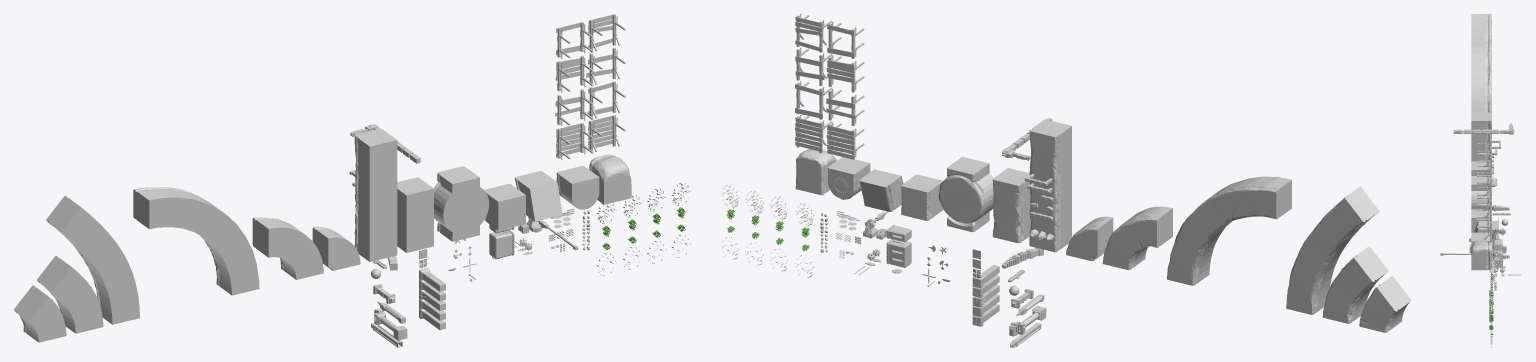
Rendered from HYPEPOLY_RunnerStandart.fbx.
The picture shows the model from 3 angles, left to right: view 1: azimuth 30°, elevation 25°; view 2: azimuth 150°, elevation 25°; view 3: azimuth 270°, elevation 25°; orthographic projection. The views are drawn at different scales.
Parts seen in each view (by area): view 1: Path_90.002, Path_Straight.002, Path_45, Path_90.001, Path_45.001, Path_Straight.001, Path_Rotation_1, Path_45.002, Path_Up, Path_End, Path_Straight, Path_Start (+11 smaller); view 2: Path_90.002, Path_45, Path_Straight.002, Path_90.001, Path_45.001, Path_Straight.001, Path_Rotation_1, Path_45.002, Path_Straight, Path_Up, Path_End, Path_90 (+11 smaller); view 3: Path_90.002, Path_Straight.002, Path_End, Path_45, HangPartMain, Path_Rotation_1, Path_Up, Path_Straight, Path_Rotation_0, Path_Straight.001, Path_Start, Bridge_Start.001 (+9 smaller).
Part boxes in pixels (x1=…): Path_90.002: x1=133, y1=187, x2=259, y2=295; Path_Straight.002: x1=354, y1=128, x2=397, y2=261; Path_45: x1=46, y1=196, x2=139, y2=324; Path_90.001: x1=252, y1=217, x2=323, y2=279; Path_45.001: x1=37, y1=256, x2=103, y2=333; Path_Straight.001: x1=397, y1=177, x2=433, y2=252; Path_Rotation_1: x1=434, y1=182, x2=489, y2=234; Path_45.002: x1=14, y1=285, x2=66, y2=342; Path_Up: x1=514, y1=171, x2=562, y2=221; Path_End: x1=589, y1=154, x2=631, y2=204; Path_Straight: x1=484, y1=184, x2=525, y2=230; Path_Start: x1=556, y1=166, x2=599, y2=209; Path_90.002: x1=1167, y1=176, x2=1291, y2=285; Path_45: x1=1286, y1=186, x2=1379, y2=314; Path_Straight.002: x1=1029, y1=119, x2=1071, y2=252; Path_90.001: x1=1102, y1=206, x2=1172, y2=270; Path_45.001: x1=1322, y1=246, x2=1388, y2=323; Path_Straight.001: x1=992, y1=168, x2=1030, y2=243; Path_Rotation_1: x1=938, y1=173, x2=993, y2=223; Path_45.002: x1=1359, y1=275, x2=1411, y2=332; Path_Straight: x1=901, y1=174, x2=943, y2=220; Path_Up: x1=859, y1=169, x2=903, y2=211; Path_End: x1=795, y1=149, x2=836, y2=195; Path_90: x1=1066, y1=216, x2=1113, y2=261; Path_90.002: x1=1471, y1=42, x2=1491, y2=112; Path_Straight.002: x1=1471, y1=112, x2=1491, y2=161; Path_End: x1=1471, y1=241, x2=1491, y2=270; Path_45: x1=1471, y1=14, x2=1491, y2=42; HangPartMain: x1=1453, y1=123, x2=1514, y2=134; Path_Rotation_1: x1=1471, y1=189, x2=1489, y2=209; Path_Up: x1=1474, y1=221, x2=1498, y2=245; Path_Straight: x1=1471, y1=209, x2=1489, y2=232; Path_Rotation_0: x1=1471, y1=176, x2=1489, y2=190; Path_Straight.001: x1=1471, y1=161, x2=1489, y2=175; Path_Start: x1=1471, y1=232, x2=1489, y2=244; Bridge_Start.001: x1=1477, y1=149, x2=1491, y2=176.
Size of the model in its own units: 14748 by 5562 by 2363.
